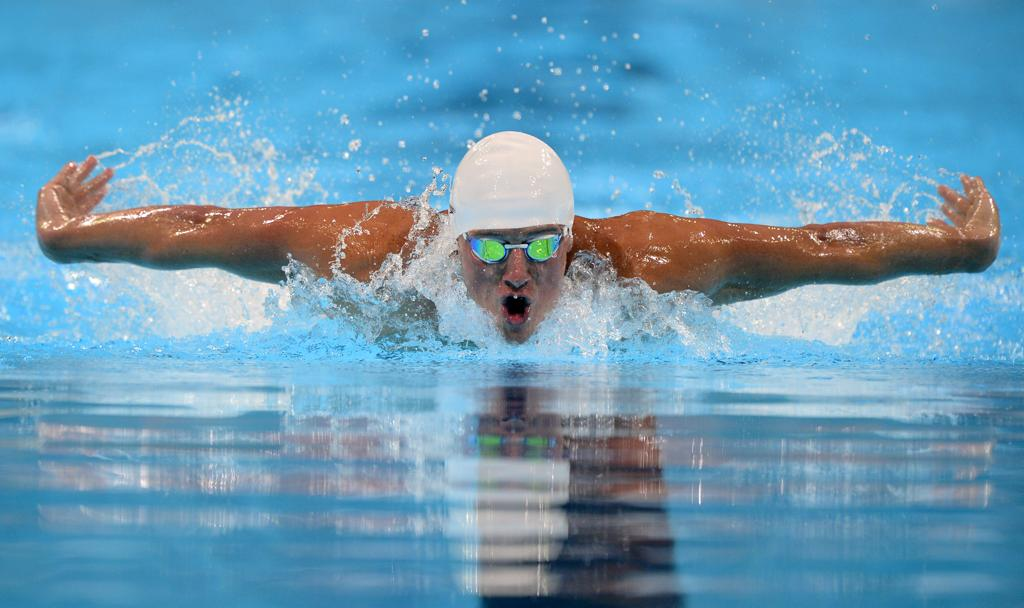face: (456, 212, 570, 348)
